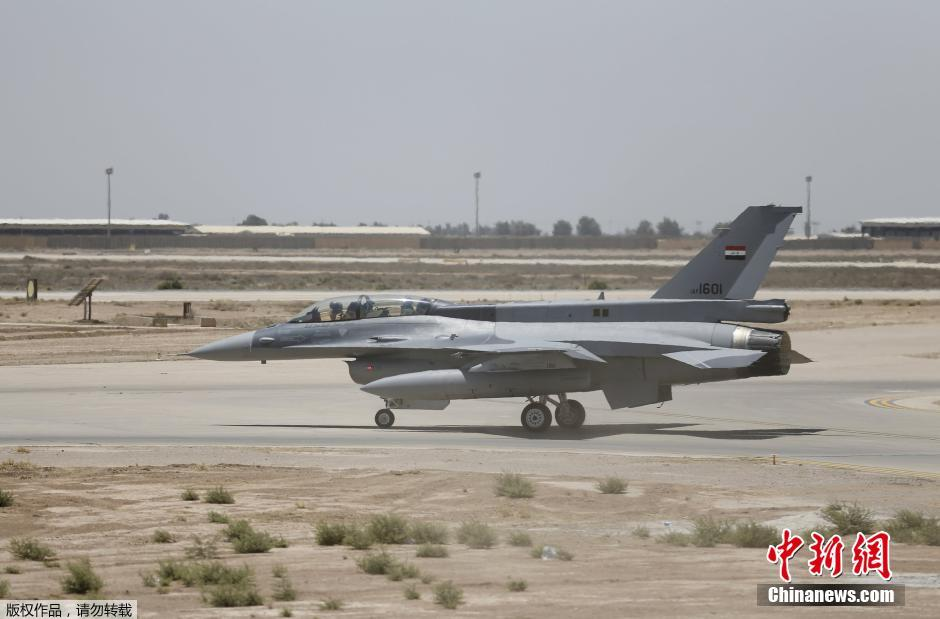airplane: (171, 202, 810, 436)
